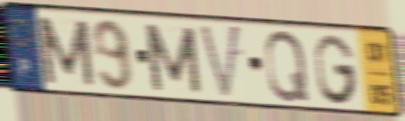9: (90, 16, 134, 92)
G: (312, 32, 360, 107)
M: (141, 21, 205, 96), (34, 14, 98, 89)
Q: (262, 28, 312, 104)
V: (196, 22, 244, 103)
